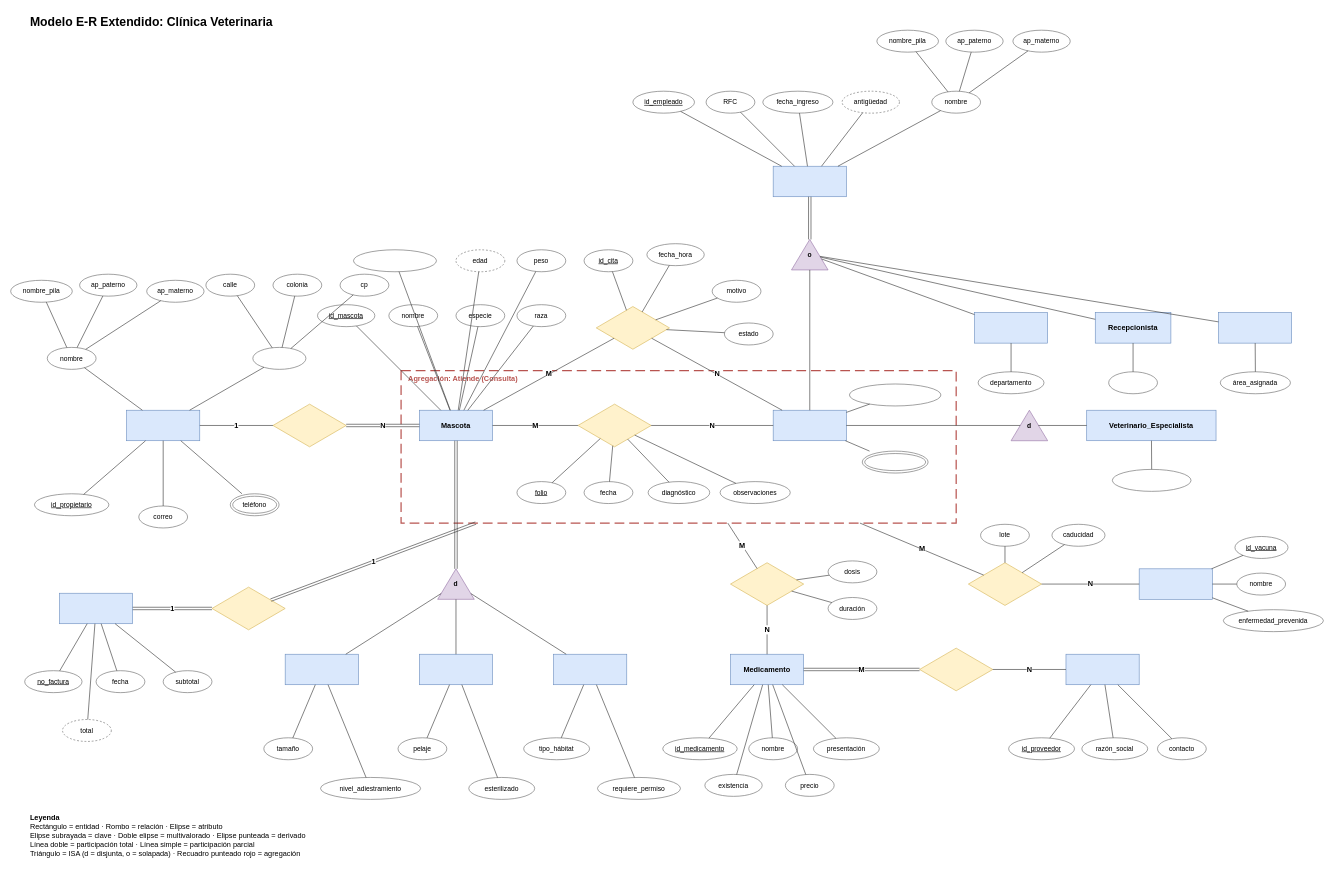
The diagram is 1334 pixels wide and 887 high, and some of its shapes have lost their labels. The centre of each missing label's shape, as x and y in pixels:
"Agenda" goes at [632,327].
"Aplica" goes at [1005,583].
"Atiende" goes at [614,425].
"Auxiliar" goes at [1255,327].
"Canino" goes at [321,669].
"cédula_profesional" goes at [895,394].
"dirección" goes at [279,358].
"Empleado" goes at [809,181].
"especialidad" goes at [895,461].
"Exótico" goes at [590,669].
"Factura" goes at [96,608].
"fecha_nacimiento" goes at [394,260].
"Felino" goes at [456,669].
"Genera" goes at [248,608].
"Gerente" goes at [1011,327].
"Posee" goes at [309,425].
"Propietario" goes at [163,425].
"Proveedor" goes at [1102,669].
"Receta" goes at [767,583].
"subespecialidad" goes at [1151,480].
"Suministra" goes at [956,669].
"turno" goes at [1132,382].
"Vacuna" goes at [1175,583].
"Veterinario" goes at [809,425].
